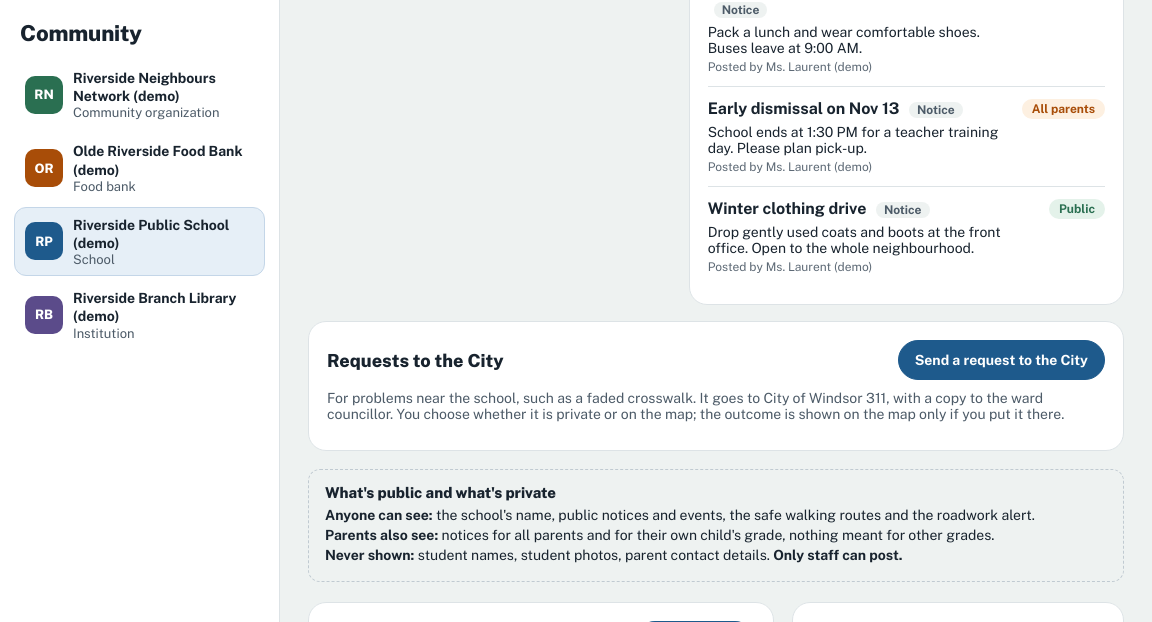
Test: School sends a request to the City (Sprint 6) › shows the City handling it, and only the outcome becomes public
This screenshot has width=1152, height=622.
(page scrolled)
Step 1. Click the button "Send a request to the City" → click(1001, 360), box x1=898 y1=340 x2=1105 y2=380
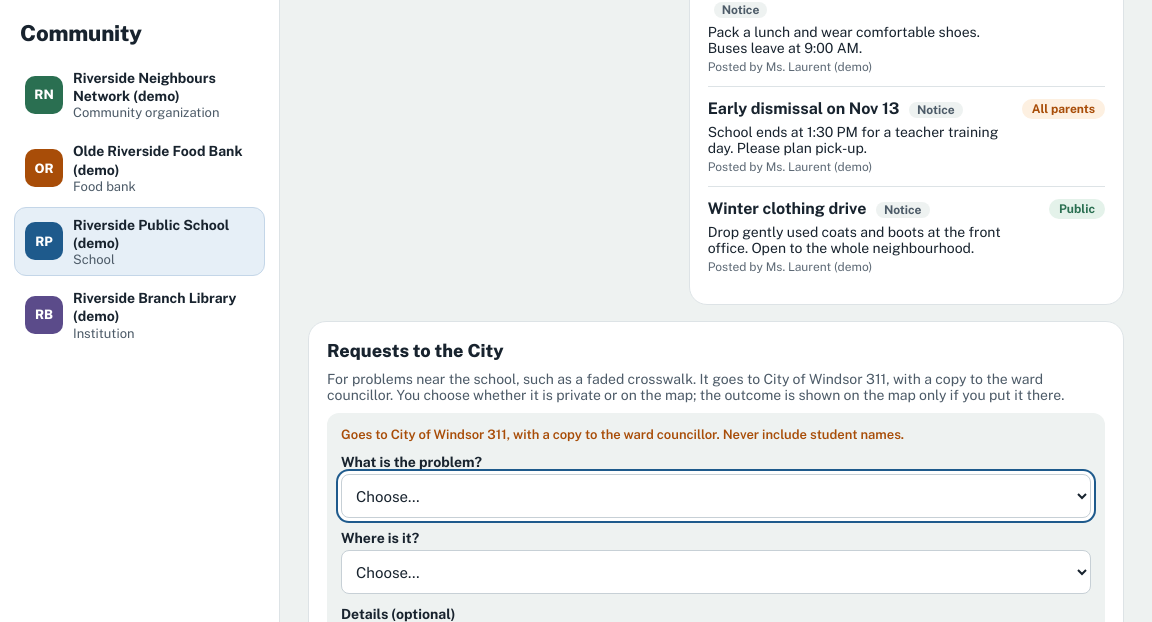
Step 2. Select "Sidewalk problem" in the dropdown labelled "What is the problem?" → (716, 496), box x1=341 y1=474 x2=1091 y2=518
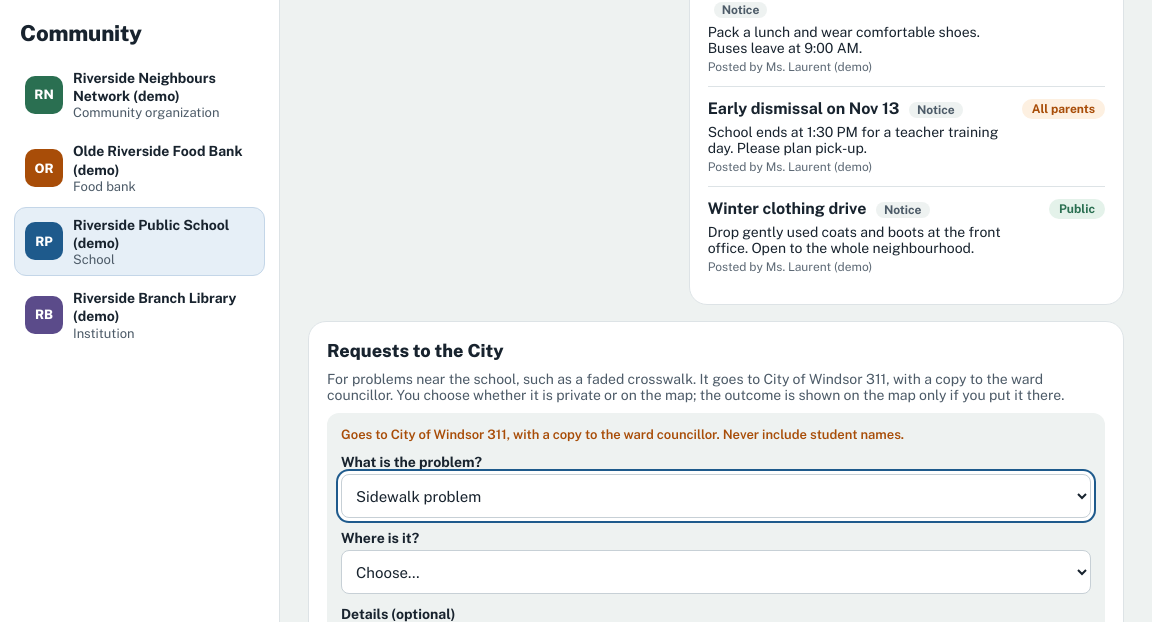
Step 3. Select "Crosswalk B1" in the dropdown labelled "Where is it?" → (716, 572), box x1=341 y1=550 x2=1091 y2=594
(page scrolled)
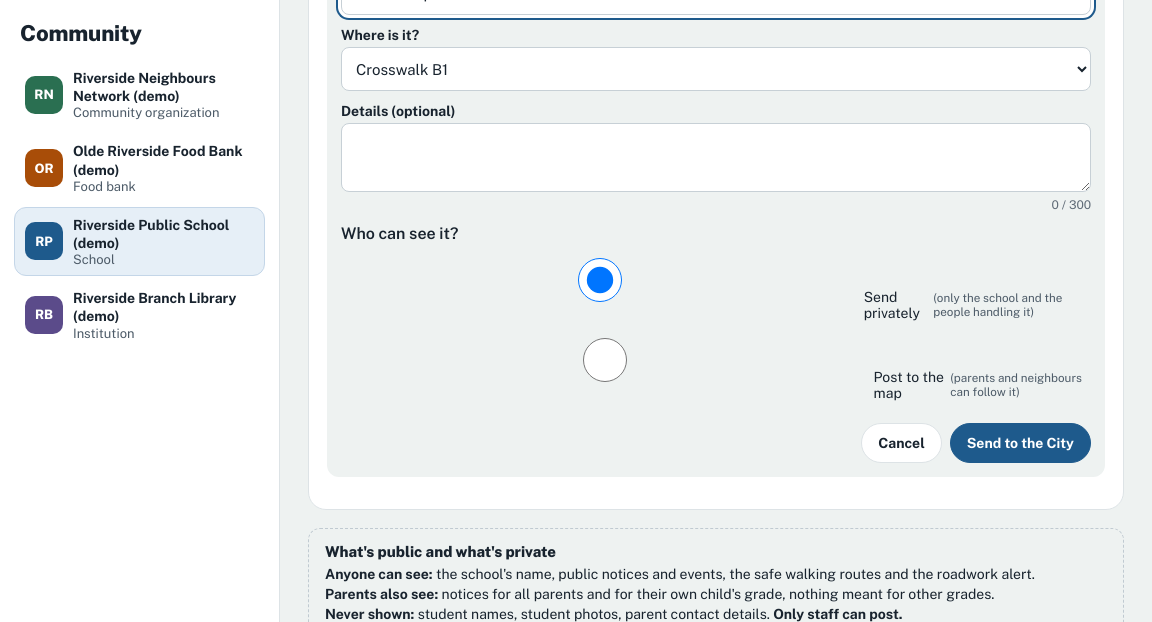
Step 4. Click the radio button labelled "Post to the map (parents and neighbours can follow it)" → click(605, 360), box x1=346 y1=338 x2=864 y2=382
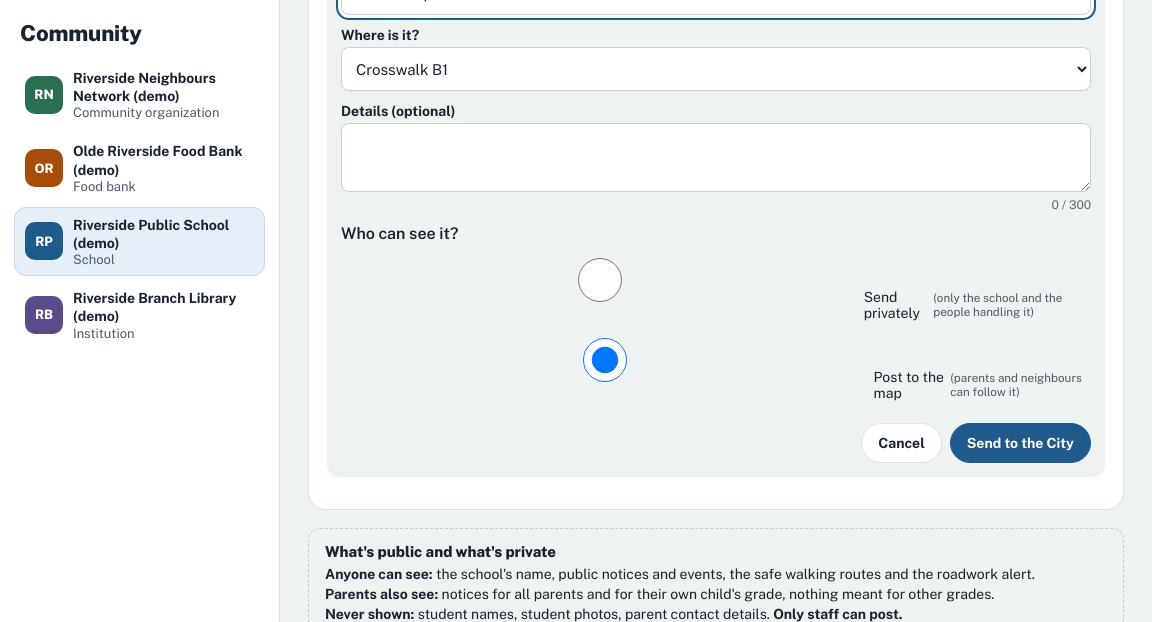
Step 5. Click the button "Send to the City" → click(1020, 443), box x1=950 y1=423 x2=1091 y2=463
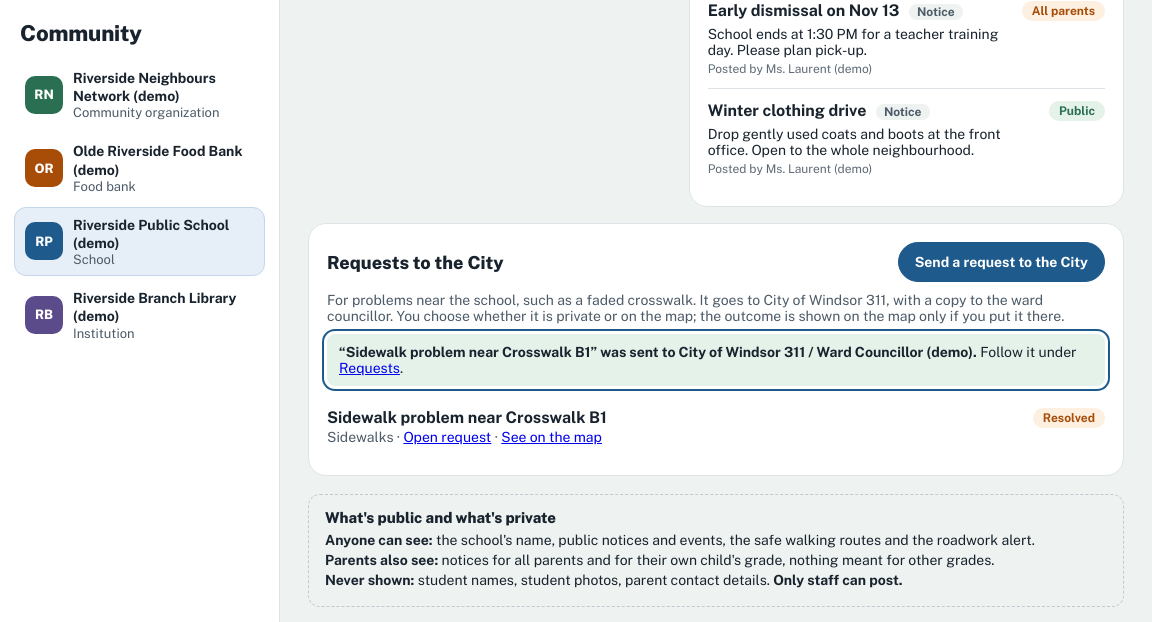
Now the text "was sent to City of Windsor 311" is shown, box x1=339 y1=344 x2=977 y2=360
Now the text "Being handled" is shown, box x1=1033 y1=408 x2=1105 y2=428
